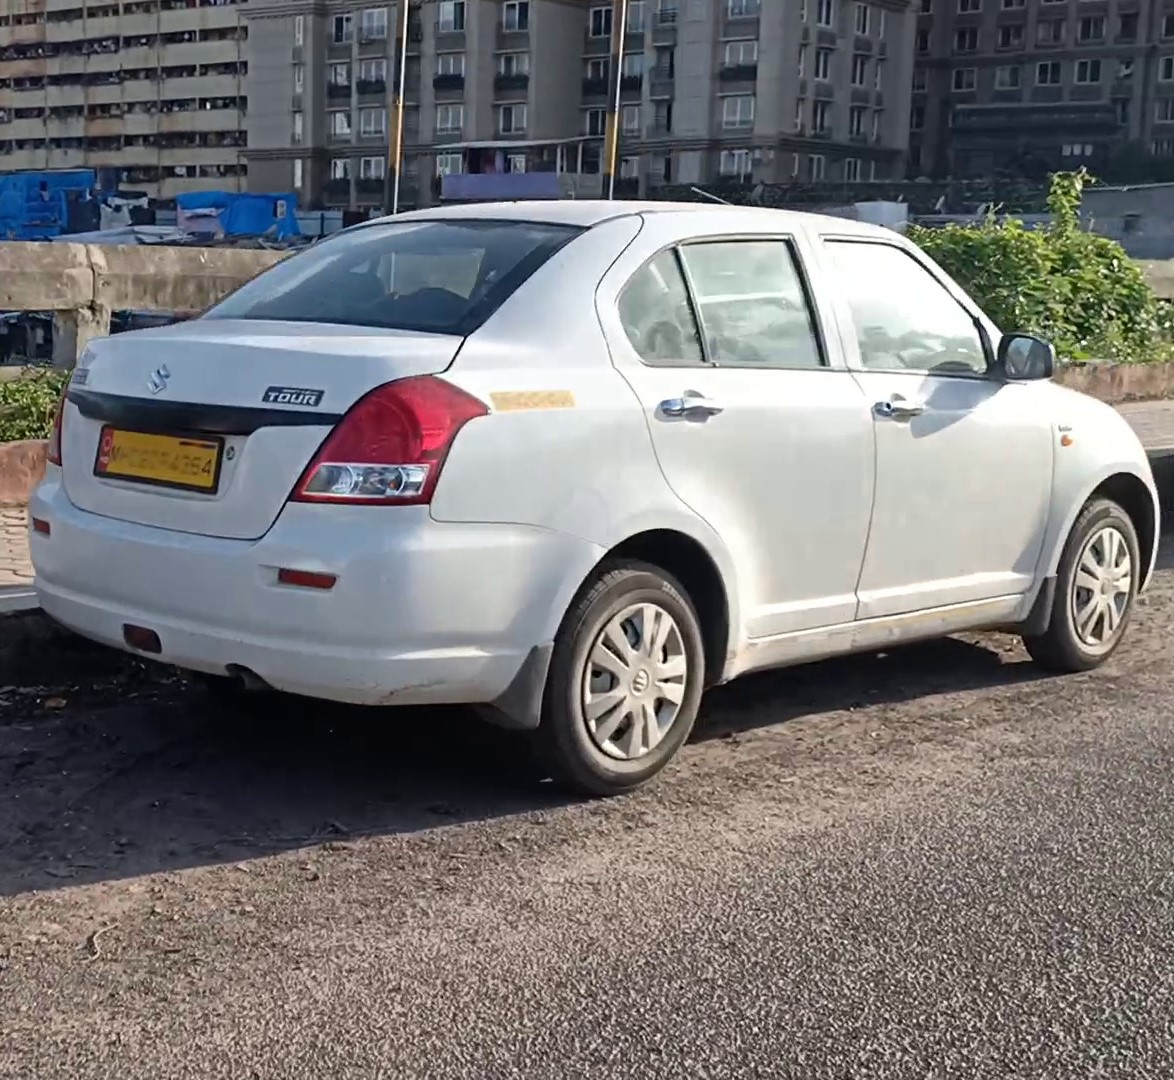MH02CR4364: (94, 419, 218, 496)
